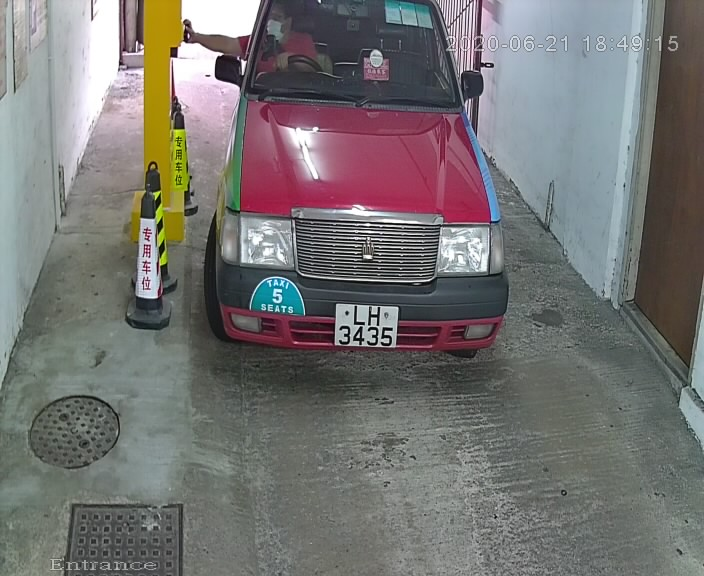taxi: (201, 1, 527, 400)
taxi_mark: (239, 268, 321, 328)
